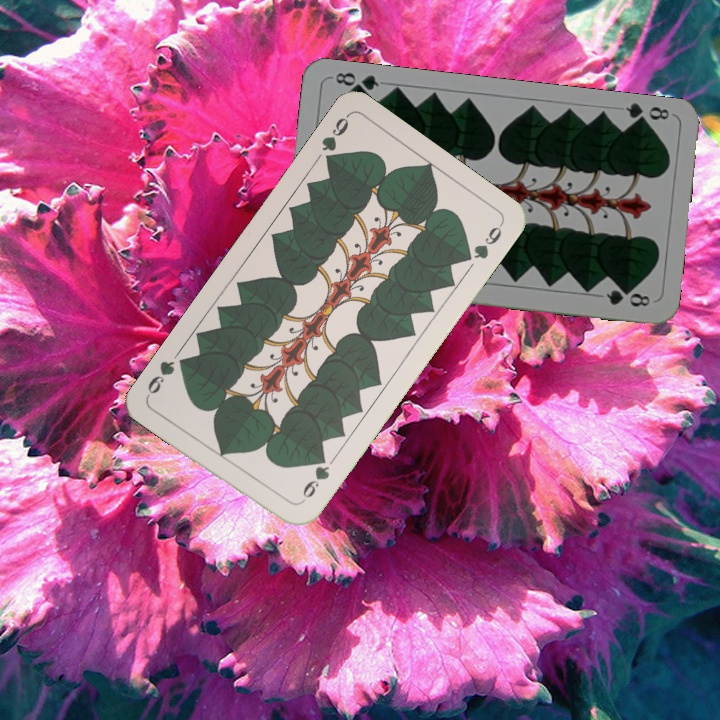G8: (621, 100, 672, 129)
G9: (294, 451, 332, 507), (317, 111, 352, 169)
